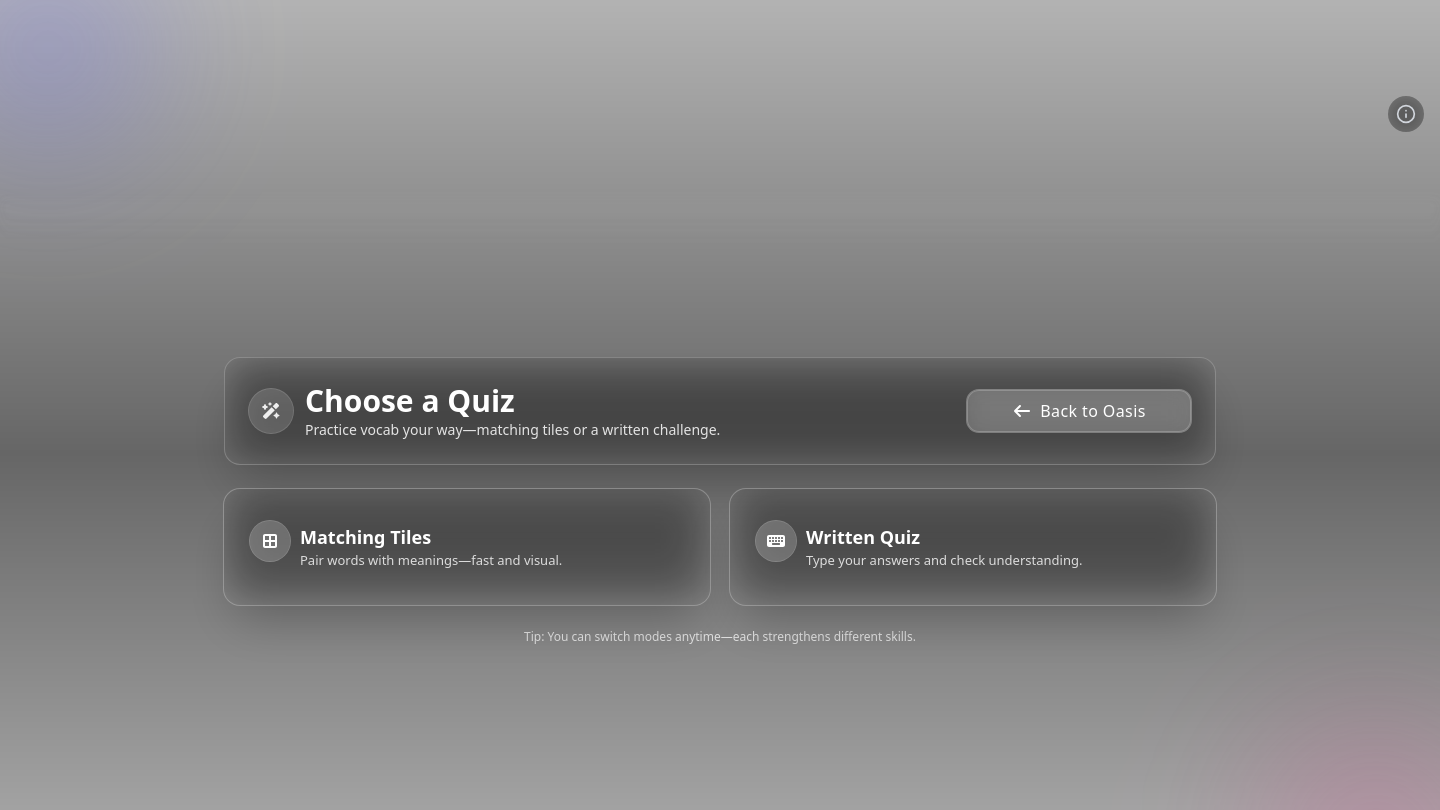
Test: Quiz Page › shows oasis hub link when quiz is active
The image size is (1440, 810).
Click the button with aria-label "start written quiz" at coordinates (776, 541), box [730,489,1216,605]
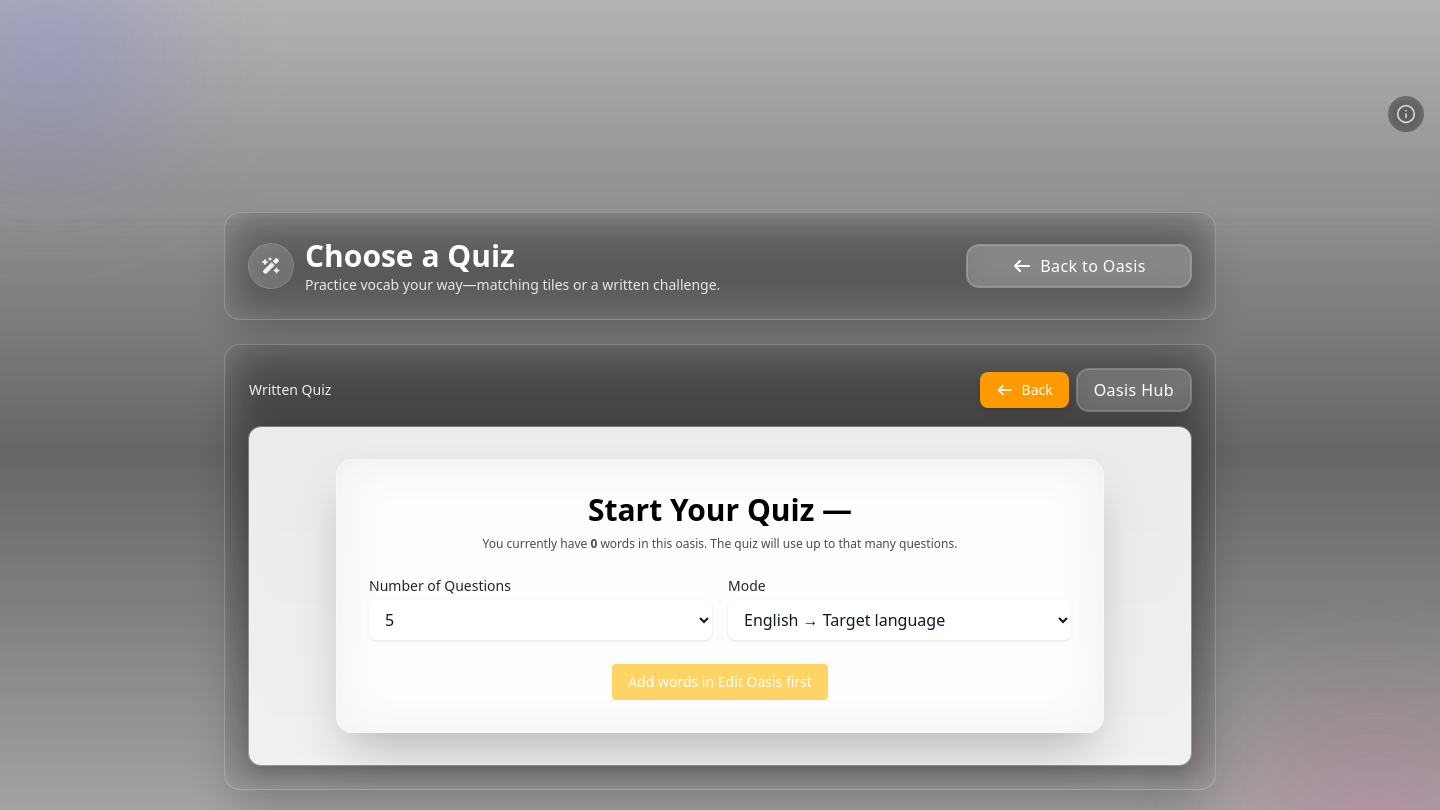
Expected: the text "Oasis Hub" is shown, [1077,369,1191,411]
